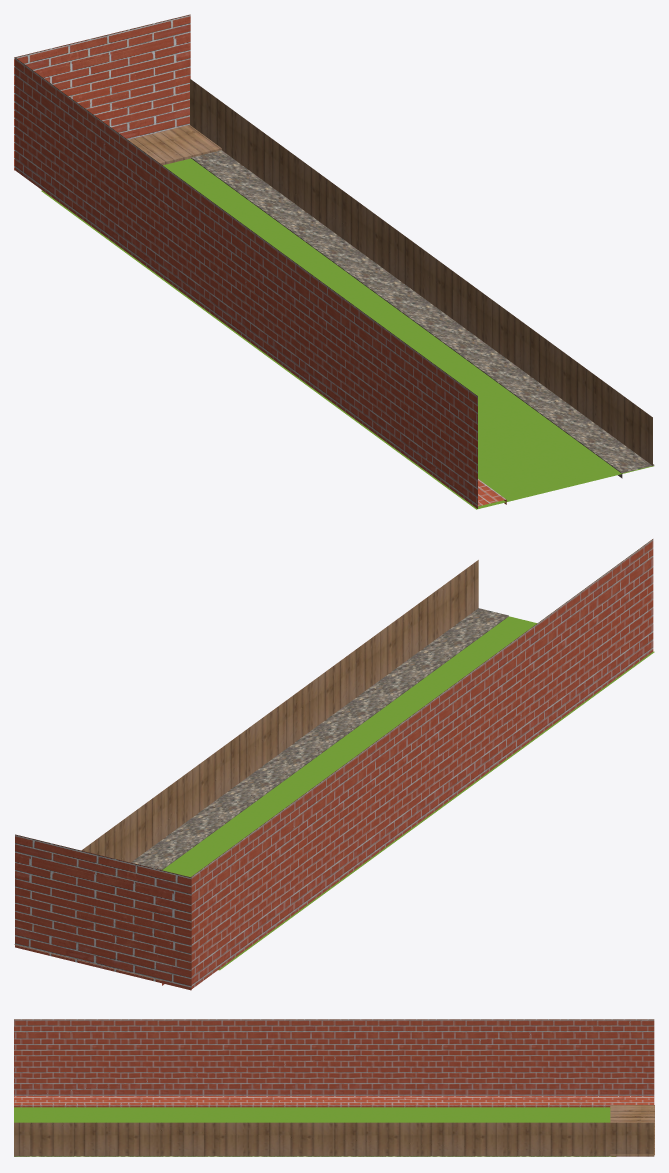
3 renders of one model, top to bottom at view 1: azimuth 30°, elevation 25°; view 2: azimuth 150°, elevation 25°; view 3: azimuth 270°, elevation 25°, orthographic. The views are drawn at different scales.
Parts seen in each view (by area): view 1: Bg 1.003, Bg 1.001, Bg 1, Bg 1.006, Bg 1.002, Bg 1.005; view 2: Bg 1.003, Bg 1.002, Bg 1.001, Bg 1.006, Bg 1; view 3: Bg 1.003, Bg 1.001, Bg 1, Bg 1.004, Bg 1.005, Bg 1.006.
Boxes of the visible parts, <box> form: Bg 1.003: <box>15,57,477,508</box>; Bg 1.001: <box>190,79,652,466</box>; Bg 1: <box>41,158,653,509</box>; Bg 1.006: <box>191,150,654,478</box>; Bg 1.002: <box>14,14,190,170</box>; Bg 1.005: <box>128,125,221,165</box>; Bg 1.003: <box>191,539,653,988</box>; Bg 1.002: <box>15,834,191,990</box>; Bg 1.001: <box>81,560,478,862</box>; Bg 1.006: <box>131,608,508,869</box>; Bg 1: <box>162,616,654,970</box>; Bg 1.003: <box>14,1019,654,1095</box>; Bg 1.001: <box>14,1122,654,1156</box>; Bg 1: <box>14,1107,615,1156</box>; Bg 1.004: <box>14,1096,654,1107</box>; Bg 1.005: <box>610,1105,654,1155</box>; Bg 1.006: <box>14,1156,611,1156</box>.
Size of the model in its own units: 1191 by 750 by 5351.
1 material, 1 textured.
